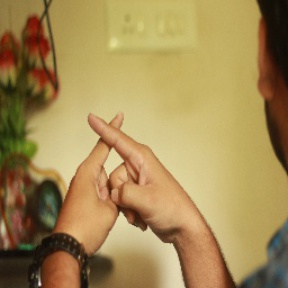X: (59, 99, 167, 198)
